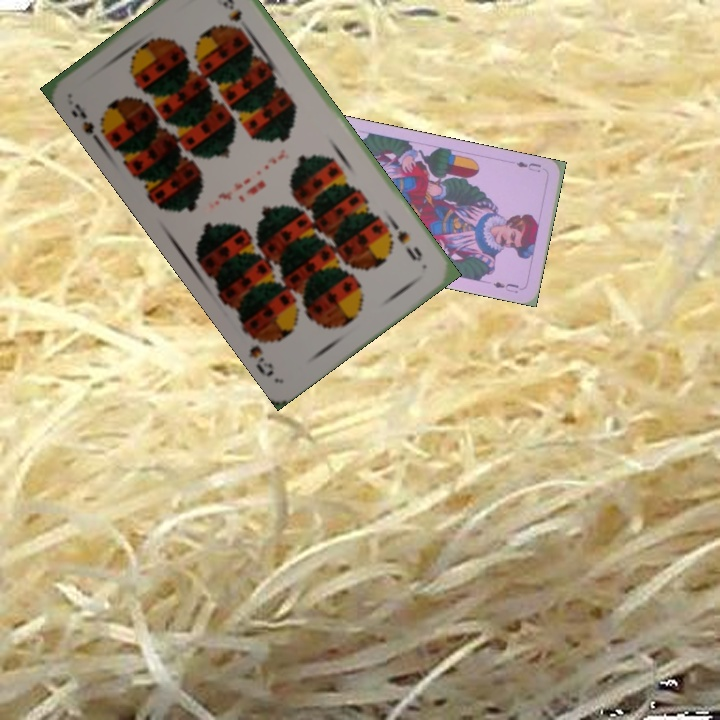EU: (512, 157, 544, 175)
S9: (67, 99, 114, 149), (384, 218, 425, 264)
